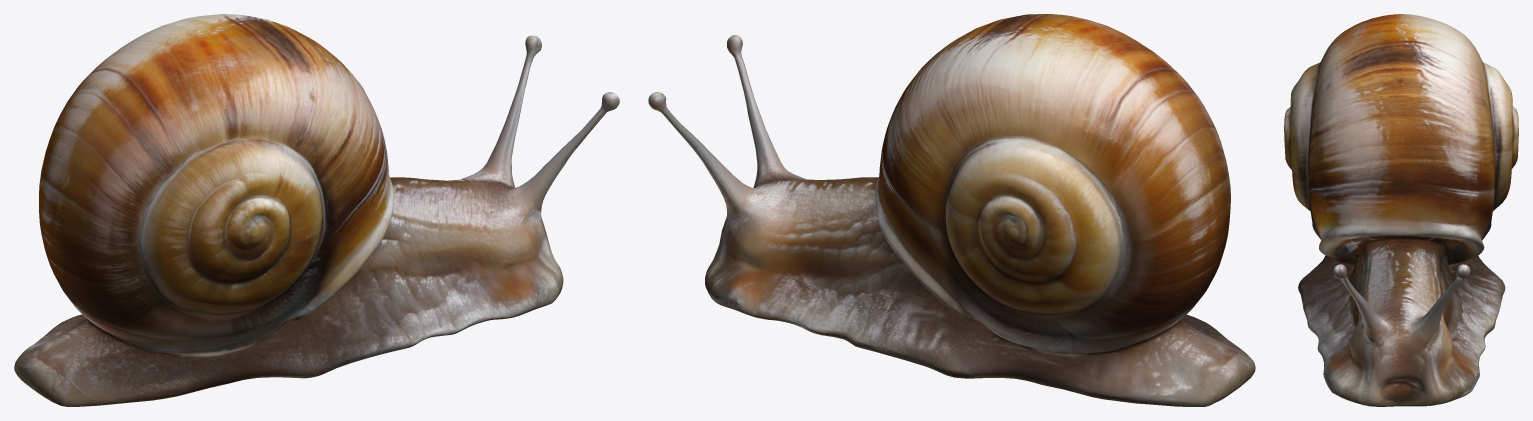
File: gary.glb
The picture shows the model from 3 angles, left to right: view 1: azimuth 30°, elevation 25°; view 2: azimuth 150°, elevation 25°; view 3: azimuth 270°, elevation 25°; orthographic projection. The views are drawn at different scales.
Parts seen in each view (by area): view 1: Mesh_0_Material_0_0; view 2: Mesh_0_Material_0_0; view 3: Mesh_0_Material_0_0.
Part boxes in pixels (box(x1,y1,x2,y2)): Mesh_0_Material_0_0: box(14, 14, 619, 406); Mesh_0_Material_0_0: box(648, 14, 1255, 406); Mesh_0_Material_0_0: box(1284, 14, 1518, 406).
Size of the model in its own units: 1 by 0.5498 by 0.4648.
Materials: 1 (1 with a texture image).
